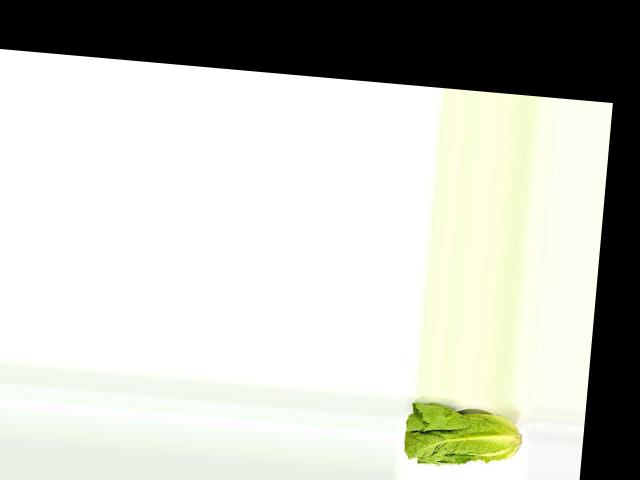lettuce: (402, 400, 525, 474)
